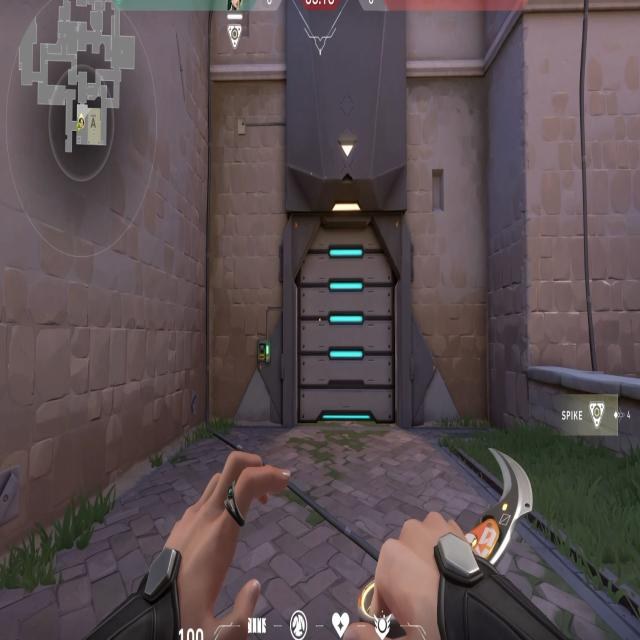A_Door: (289, 203, 407, 424)
